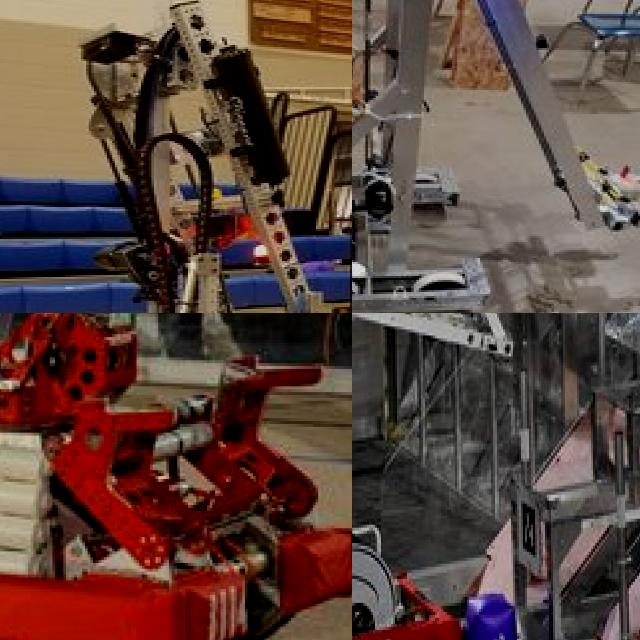FRC-Robots: (0, 313, 352, 640), (0, 0, 352, 313), (352, 0, 640, 313), (352, 313, 577, 640)
